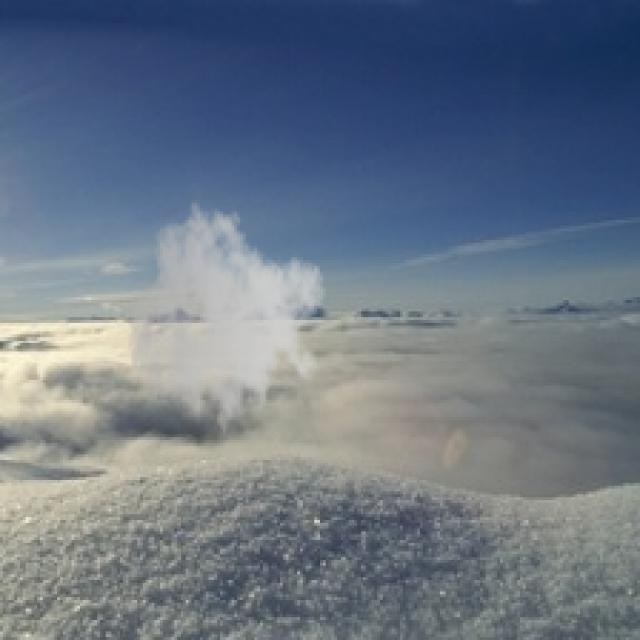smoke: (126, 200, 326, 449)
